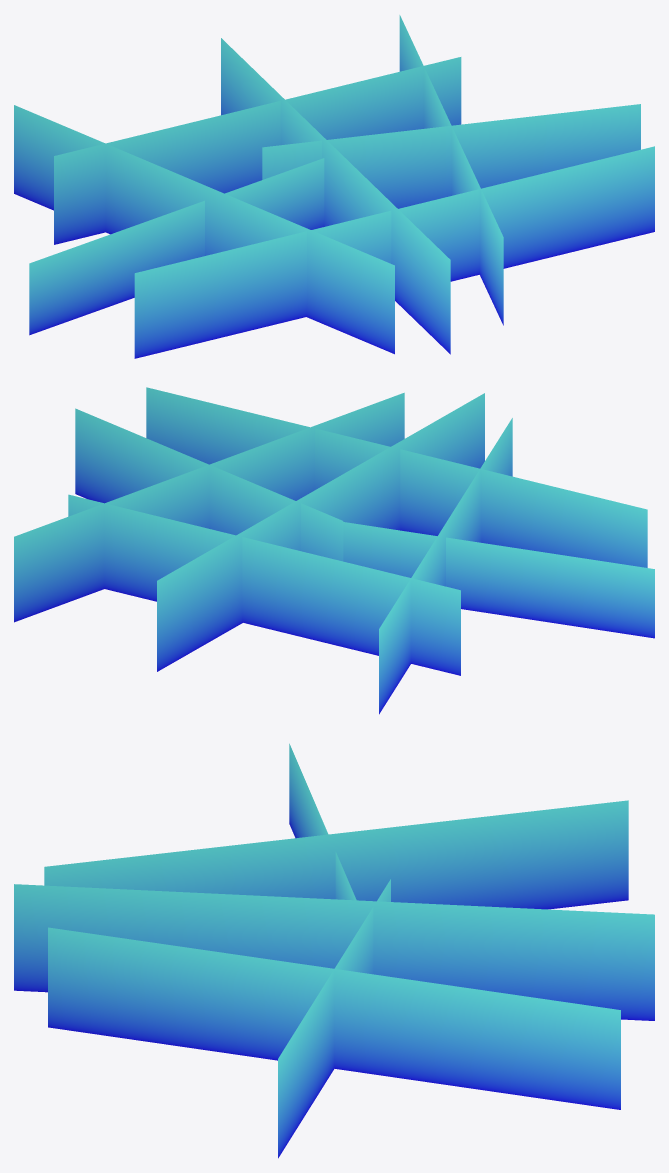
File: SM_Env_Grass_Short_Clump_02.glb
The picture shows the model from 3 angles, top to bottom: view 1: azimuth 30°, elevation 25°; view 2: azimuth 150°, elevation 25°; view 3: azimuth 270°, elevation 25°; orthographic projection. The views are drawn at different scales.
Parts seen in each view (by area): view 1: SM_Env_Grass_Short_Clump_02_LOD0; view 2: SM_Env_Grass_Short_Clump_02_LOD0; view 3: SM_Env_Grass_Short_Clump_02_LOD0.
Boxes of the visible parts, box(x1,y1,x2,y2) form: SM_Env_Grass_Short_Clump_02_LOD0: box(14, 15, 654, 358); SM_Env_Grass_Short_Clump_02_LOD0: box(14, 387, 654, 714); SM_Env_Grass_Short_Clump_02_LOD0: box(14, 743, 654, 1158).
Size of what is drawn, in the model's own units: 1.79 by 0.2664 by 1.45.
